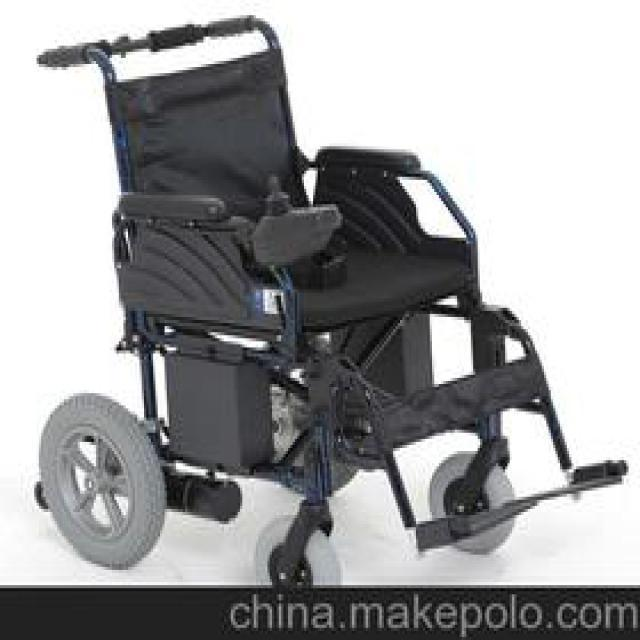wheelchairs: (37, 17, 626, 581)
